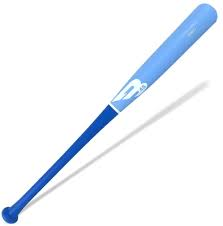baseball bat: (1, 4, 218, 224)
